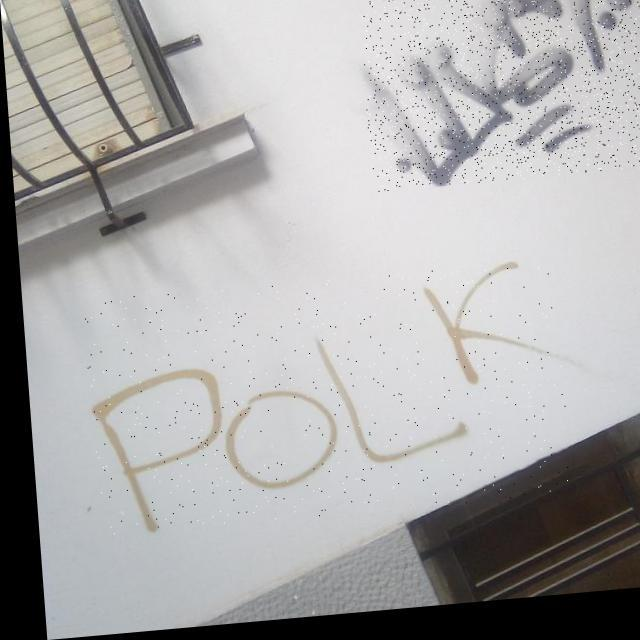-: (76, 268, 564, 537), (356, 0, 640, 199)
